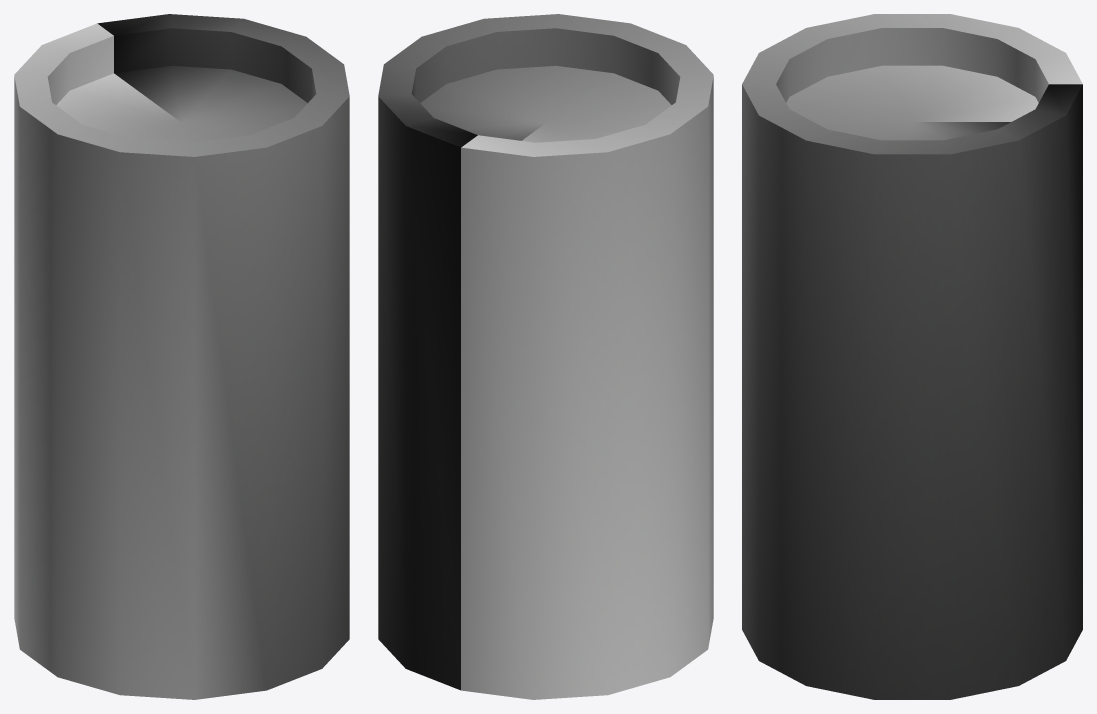
The model's file is can.glb.
3 views of the same model, side by side, from view 1: azimuth 30°, elevation 25°; view 2: azimuth 150°, elevation 25°; view 3: azimuth 270°, elevation 25° (orthographic).
Parts seen in each view (by area): view 1: can; view 2: can; view 3: can.
Boxes of the visible parts, x1=… form: can: x1=14, y1=14, x2=349, y2=699; can: x1=378, y1=14, x2=713, y2=699; can: x1=742, y1=14, x2=1082, y2=699.
Bounding box in the file's own units: 0.1636 × 0.2963 × 0.1678.
1 material, 1 textured.
